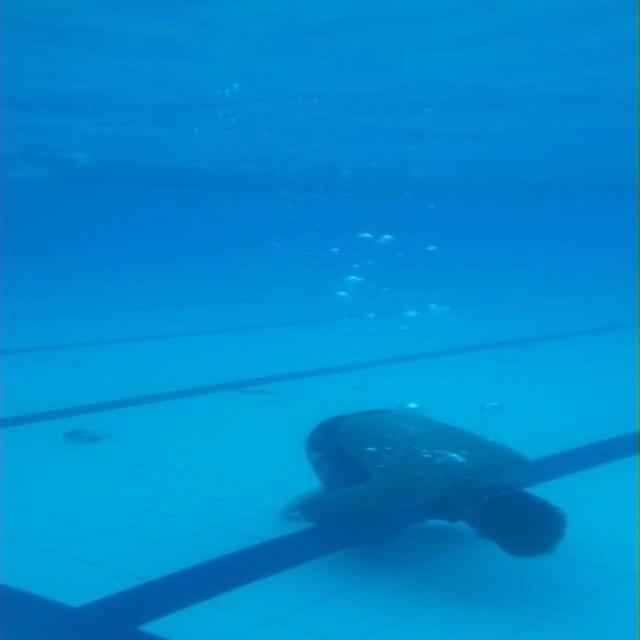Drowning: (286, 408, 564, 560)
